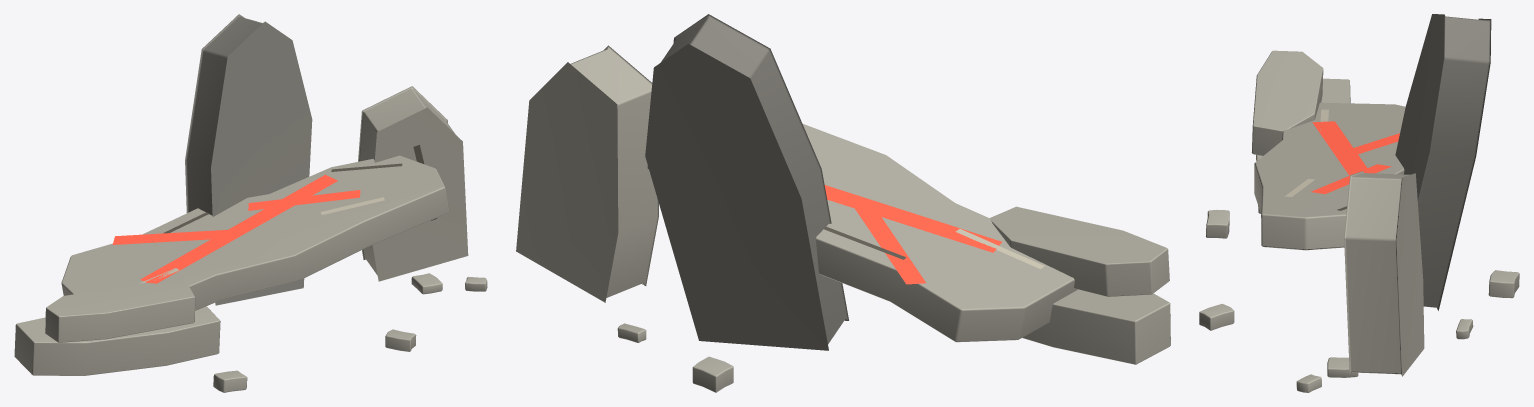
File: SM_GIA_BloodAxeCairnSlabCluster_A01_TurnaroundRebuild_LOD2.fbx
3 renders of one model, left to right at view 1: azimuth 30°, elevation 25°; view 2: azimuth 150°, elevation 25°; view 3: azimuth 270°, elevation 25°, orthographic. The views are drawn at different scales.
Visible parts, largest first — view 1: A1_Turnaround_MainFallenPaintedSlab.002, A1_Turnaround_RearTallBrokenSlab.002, A1_Turnaround_RightRawhideUpright.002, A1_Turnaround_LeftFrontStackBase.002, A1_Turnaround_LeftFrontStackCap.002, A1_Turnaround_MainPaint_LongStroke.002, A1_Turnaround_MainPaint_CrossStrokeA.002, A1_Turnaround_MainPaint_CrossStrokeB.002, A1_Turnaround_Pebble_06.001, A1_Turnaround_Pebble_05.002, A1_Turnaround_Pebble_01.001; view 2: A1_Turnaround_RearTallBrokenSlab.002, A1_Turnaround_RightRawhideUpright.002, A1_Turnaround_MainFallenPaintedSlab.002, A1_Turnaround_LeftFrontStackCap.002, A1_Turnaround_LeftFrontStackBase.002, A1_Turnaround_MainPaint_LongStroke.002, A1_Turnaround_MainPaint_CrossStrokeA.002, A1_Turnaround_Pebble_02.002; view 3: A1_Turnaround_RearTallBrokenSlab.002, A1_Turnaround_RightRawhideUpright.002, A1_Turnaround_MainFallenPaintedSlab.002, A1_Turnaround_LeftFrontStackCap.002, A1_Turnaround_MainPaint_LongStroke.002, A1_Turnaround_Pebble_02.002, A1_Turnaround_LeftFrontStackBase.002, A1_Turnaround_Pebble_05.002, A1_Turnaround_Pebble_06.001, A1_Turnaround_Pebble_01.001, A1_Turnaround_MainPaint_CrossStrokeB.002, A1_Turnaround_Pebble_03.001 (+2 smaller).
Part boxes in pixels (bbox=[...]): A1_Turnaround_MainFallenPaintedSlab.002: bbox=[61, 155, 449, 310]; A1_Turnaround_RearTallBrokenSlab.002: bbox=[185, 14, 312, 305]; A1_Turnaround_RightRawhideUpright.002: bbox=[358, 86, 468, 281]; A1_Turnaround_LeftFrontStackBase.002: bbox=[14, 306, 220, 375]; A1_Turnaround_LeftFrontStackCap.002: bbox=[45, 283, 195, 342]; A1_Turnaround_MainPaint_LongStroke.002: bbox=[140, 174, 337, 283]; A1_Turnaround_MainPaint_CrossStrokeA.002: bbox=[112, 230, 226, 244]; A1_Turnaround_MainPaint_CrossStrokeB.002: bbox=[248, 190, 360, 210]; A1_Turnaround_Pebble_06.001: bbox=[213, 370, 247, 392]; A1_Turnaround_Pebble_05.002: bbox=[385, 329, 416, 351]; A1_Turnaround_Pebble_01.001: bbox=[411, 273, 442, 294]; A1_Turnaround_RearTallBrokenSlab.002: bbox=[645, 14, 848, 350]; A1_Turnaround_RightRawhideUpright.002: bbox=[516, 45, 658, 302]; A1_Turnaround_MainFallenPaintedSlab.002: bbox=[647, 123, 1077, 342]; A1_Turnaround_LeftFrontStackCap.002: bbox=[990, 206, 1169, 296]; A1_Turnaround_LeftFrontStackBase.002: bbox=[1022, 289, 1170, 364]; A1_Turnaround_MainPaint_LongStroke.002: bbox=[824, 185, 1001, 252]; A1_Turnaround_MainPaint_CrossStrokeA.002: bbox=[855, 200, 925, 284]; A1_Turnaround_Pebble_02.002: bbox=[692, 356, 733, 392]; A1_Turnaround_RearTallBrokenSlab.002: bbox=[1395, 14, 1491, 310]; A1_Turnaround_RightRawhideUpright.002: bbox=[1344, 171, 1424, 376]; A1_Turnaround_MainFallenPaintedSlab.002: bbox=[1254, 102, 1405, 250]; A1_Turnaround_LeftFrontStackCap.002: bbox=[1251, 50, 1323, 155]; A1_Turnaround_MainPaint_LongStroke.002: bbox=[1312, 121, 1370, 175]; A1_Turnaround_Pebble_02.002: bbox=[1488, 270, 1519, 298]; A1_Turnaround_LeftFrontStackBase.002: bbox=[1256, 78, 1350, 213]; A1_Turnaround_Pebble_05.002: bbox=[1199, 303, 1234, 330]; A1_Turnaround_Pebble_06.001: bbox=[1206, 210, 1229, 238]; A1_Turnaround_Pebble_01.001: bbox=[1327, 357, 1358, 377]; A1_Turnaround_MainPaint_CrossStrokeB.002: bbox=[1311, 164, 1391, 194]; A1_Turnaround_Pebble_03.001: bbox=[1296, 374, 1321, 392].
Bounding box in the file's own units: 16690 × 31477 × 16954.
